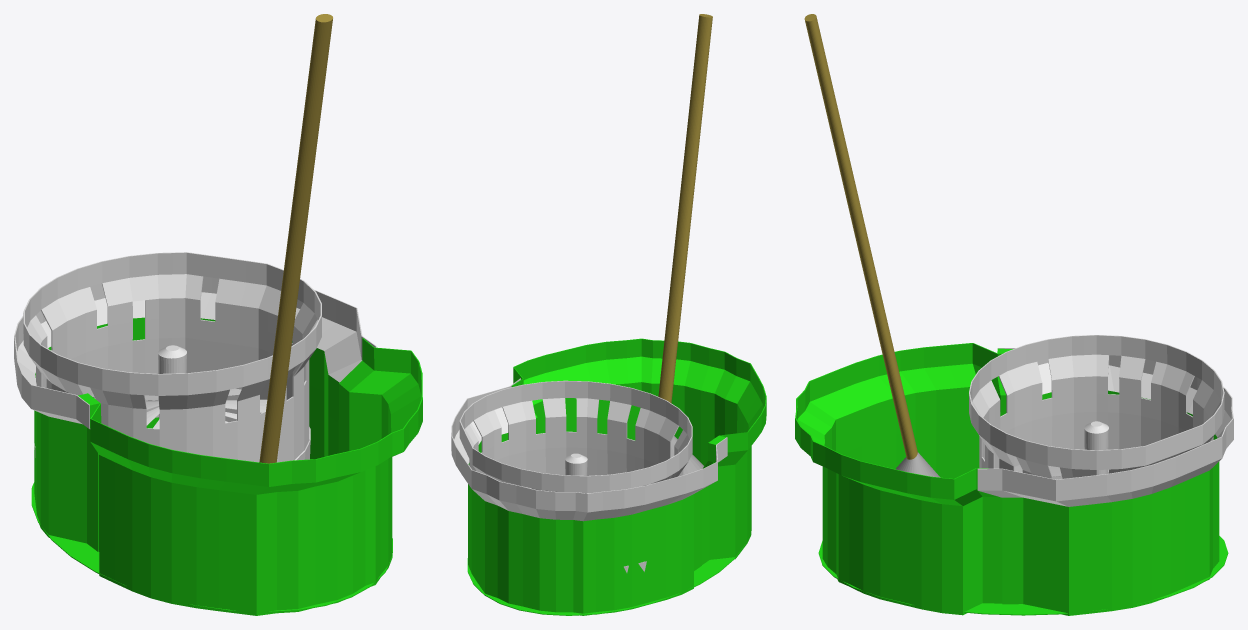
File: Mop.fbx
3 renders of one model, left to right at view 1: azimuth 30°, elevation 25°; view 2: azimuth 150°, elevation 25°; view 3: azimuth 270°, elevation 25°, orthographic. The views are drawn at different scales.
Parts seen in each view (by area): view 1: Cylinder.001, Cylinder.003, Cylinder, Cylinder.004, Cylinder.002; view 2: Cylinder, Cylinder.003, Cylinder.001, Cylinder.004, Cylinder.002; view 3: Cylinder.001, Cylinder, Cylinder.003, Cylinder.004, Cylinder.002.
Boxes of the visible parts, box(x1,y1,x2,y2) form: Cylinder.001: box(78, 338, 422, 615); Cylinder.003: box(23, 252, 321, 462); Cylinder: box(14, 276, 376, 551); Cylinder.004: box(259, 14, 332, 463); Cylinder.002: box(31, 482, 392, 612); Cylinder: box(451, 378, 727, 615); Cylinder.003: box(459, 380, 692, 572); Cylinder.001: box(511, 338, 766, 564); Cylinder.004: box(658, 14, 712, 403); Cylinder.002: box(467, 544, 745, 615); Cylinder.001: box(795, 343, 1012, 615); Cylinder: box(977, 348, 1233, 615); Cylinder.003: box(969, 335, 1224, 479); Cylinder.004: box(804, 14, 917, 459); Cylinder.002: box(818, 536, 1228, 615).
Bounding box in the file's own units: 313 × 551 × 408.
